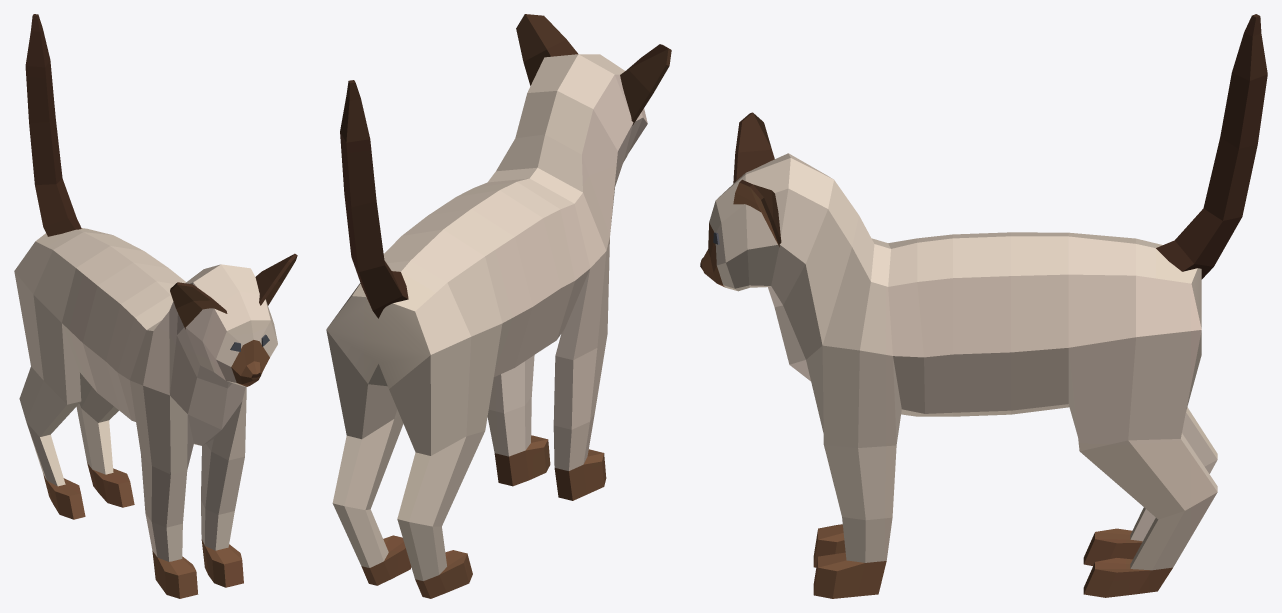
File: dBJgGEu5bHW.glb
3 renders of one model, left to right at view 1: azimuth 30°, elevation 25°; view 2: azimuth 150°, elevation 25°; view 3: azimuth 270°, elevation 25°, orthographic. The views are drawn at different scales.
Visible parts, largest first — view 1: Geo_Kitten; view 2: Geo_Kitten; view 3: Geo_Kitten.
Boxes of the visible parts, x1,y1,x2,y2 form: Geo_Kitten: [14, 14, 297, 598]; Geo_Kitten: [326, 14, 671, 598]; Geo_Kitten: [700, 14, 1267, 598].
Size of the model in its own units: 0.2948 by 1 by 0.9182.
1 material, 1 textured.
